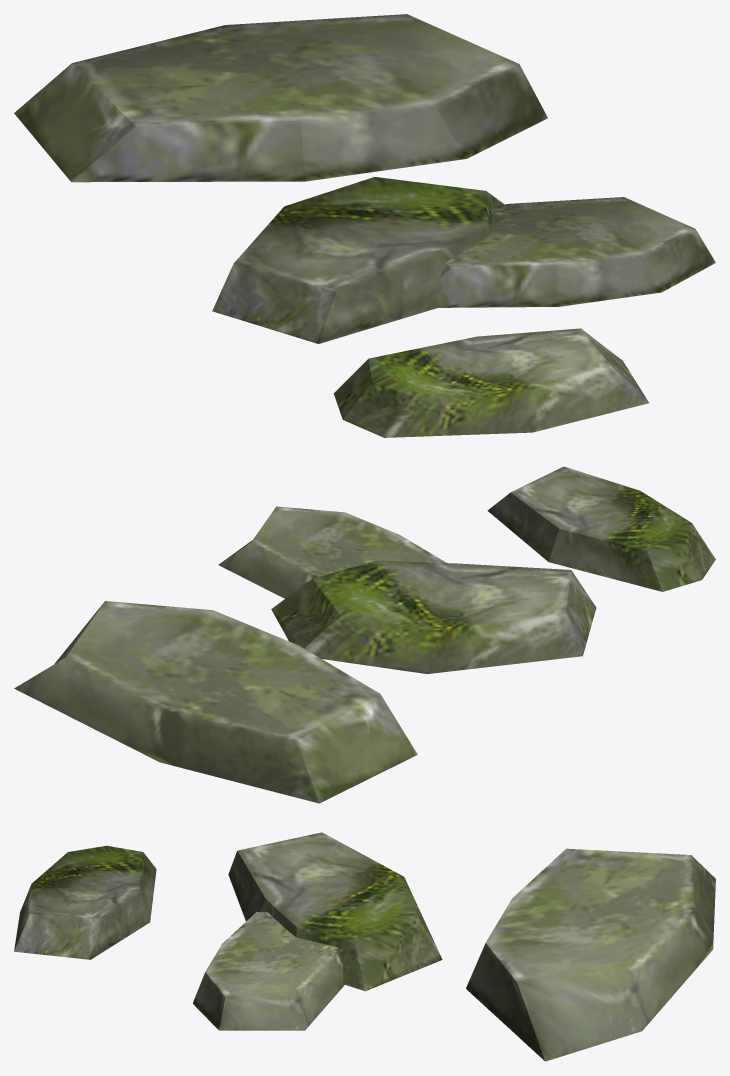
File: 5012_Item_shitou_4.FBX
3 renders of one model, top to bottom at view 1: azimuth 30°, elevation 25°; view 2: azimuth 150°, elevation 25°; view 3: azimuth 270°, elevation 25°, orthographic. The views are drawn at different scales.
Visible parts, largest first — view 1: 5012_Item_shitou_4; view 2: 5012_Item_shitou_4; view 3: 5012_Item_shitou_4.
Boxes of the visible parts, x1,y1,x2,y2 form: 5012_Item_shitou_4: (14,14,715,437); 5012_Item_shitou_4: (14,466,715,803); 5012_Item_shitou_4: (14,832,715,1061).
Size of the model in its own units: 174 by 27.35 by 282.
